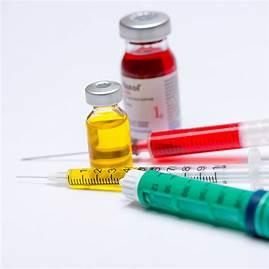Syringe: (114, 9, 183, 136), (78, 75, 136, 170), (7, 166, 164, 190)
